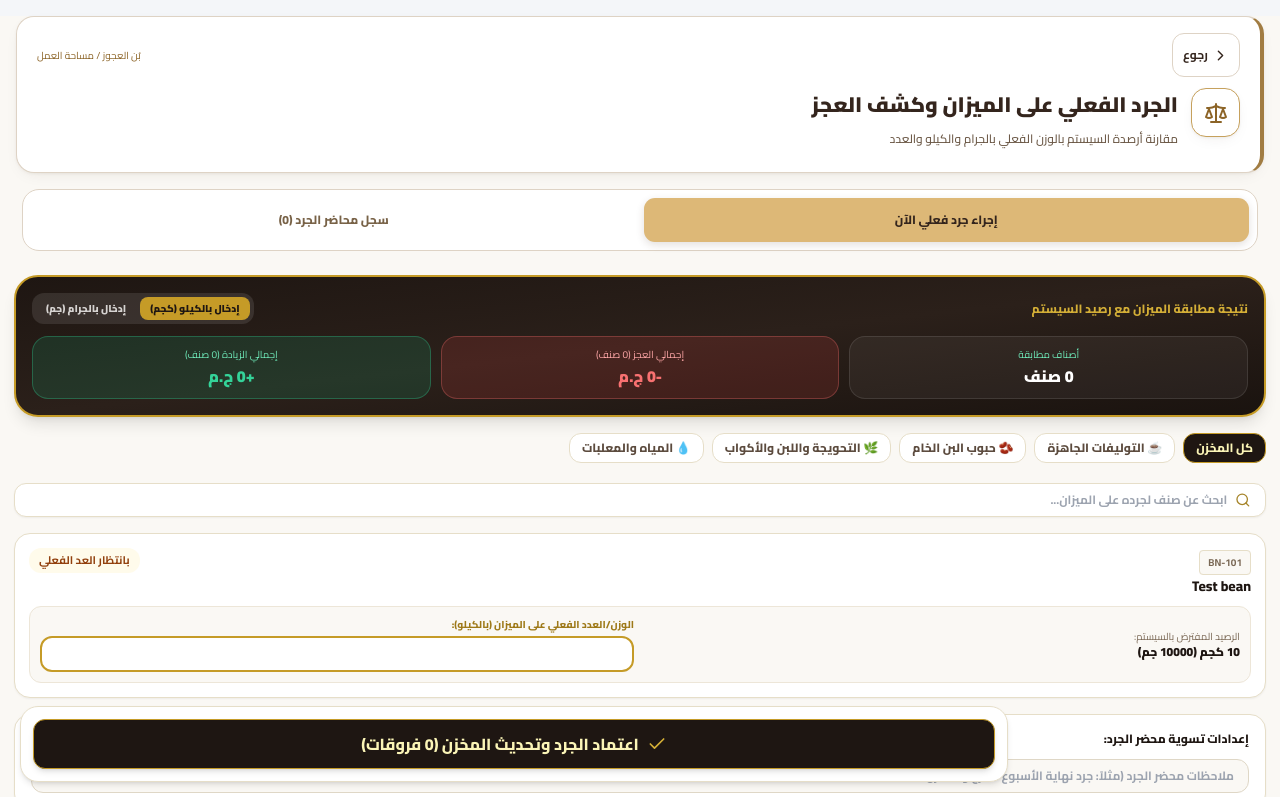
Scenario: preserves grams as a base quantity across count unit changes and retains a rejected count
The width and height of the screenshot is (1280, 797).
Click the button "إدخال بالجرام (جم)" at (86, 309), box x1=36 y1=297 x2=136 y2=320
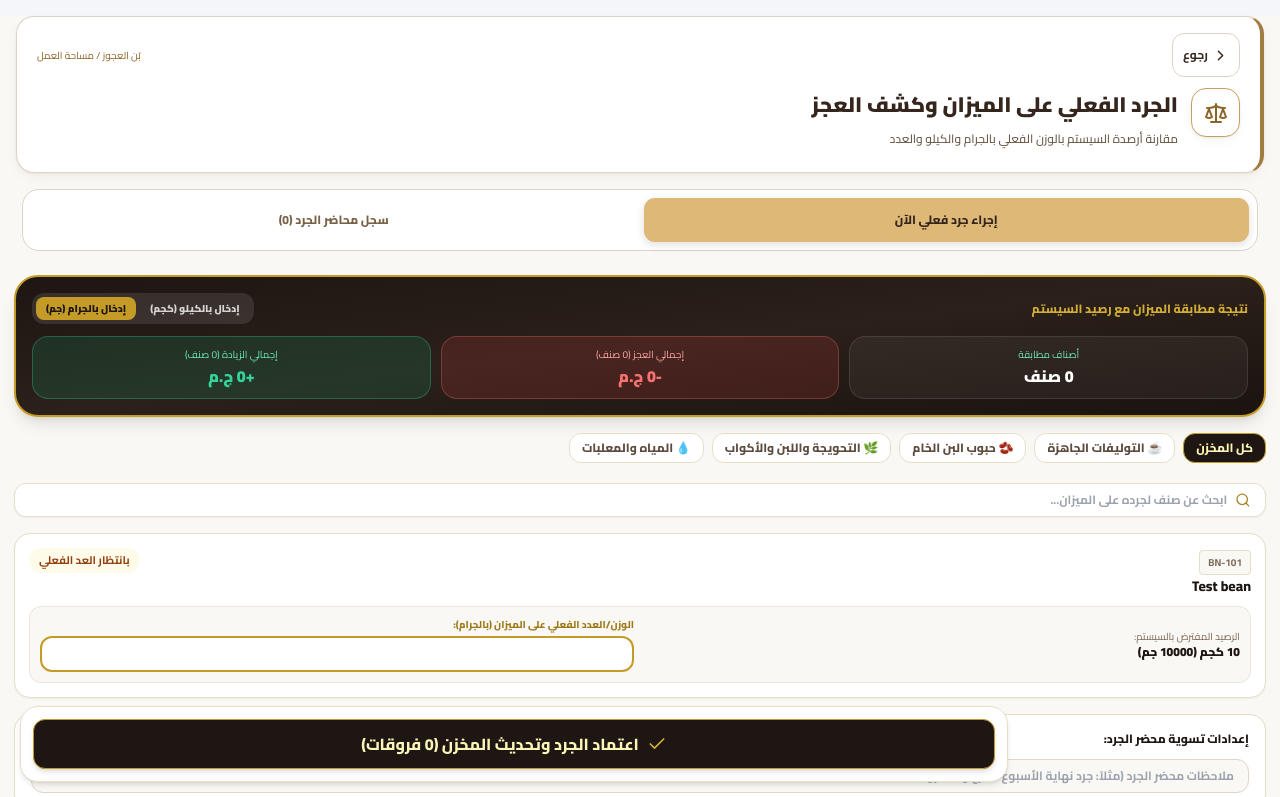
Type "9500" into the field named "الرصيد الفعلي: Test bean" at (337, 654), box x1=40 y1=636 x2=634 y2=672
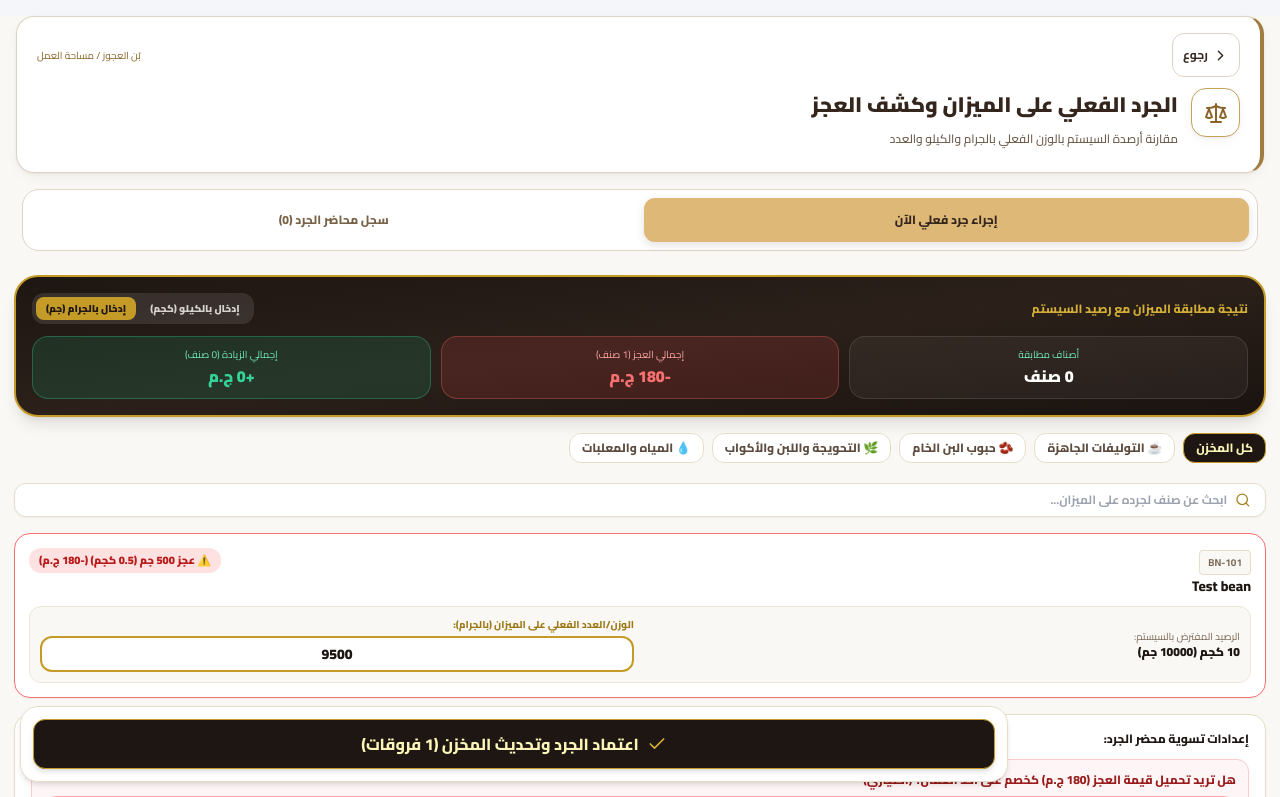
Click the button "إدخال بالكيلو (كجم)" at (195, 309), box x1=140 y1=297 x2=250 y2=320
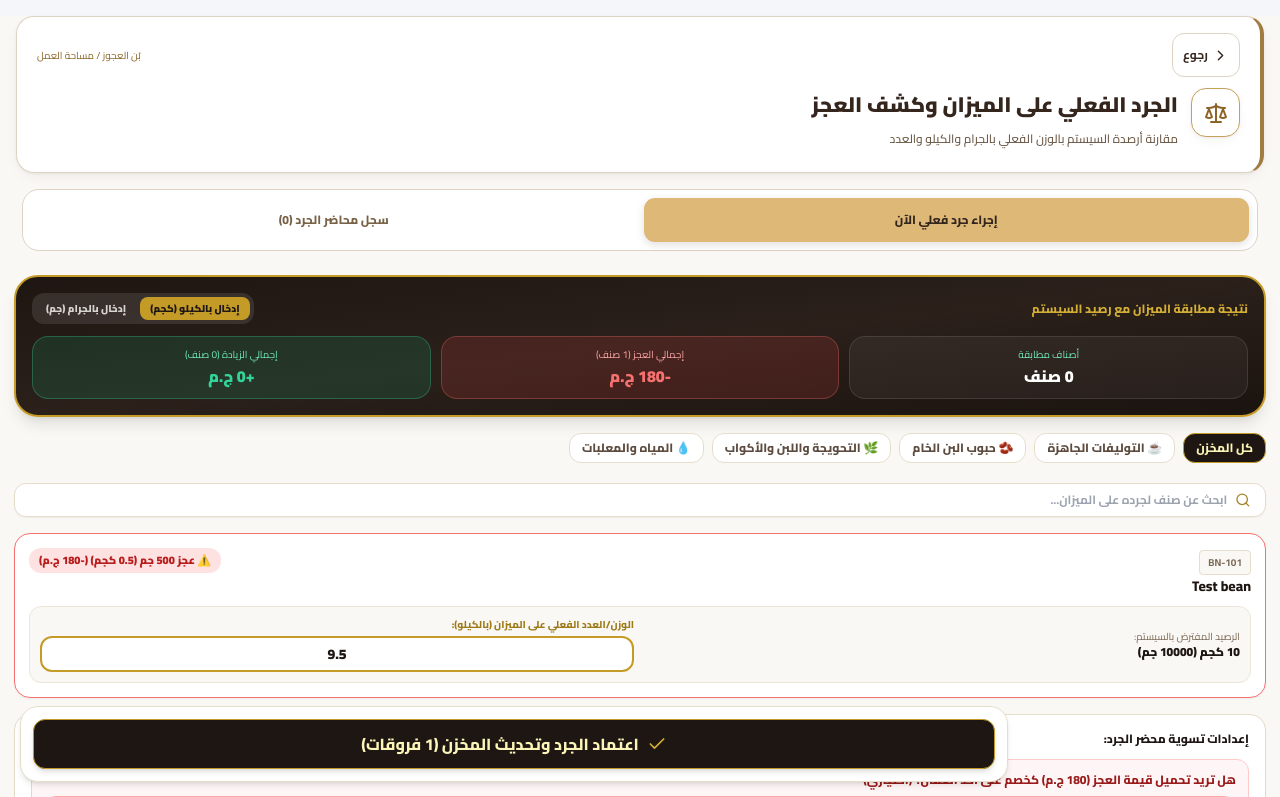
Expected: the field named "الرصيد الفعلي: Test bean" holds "9.5", x1=40 y1=636 x2=634 y2=672
Click the button "اعتماد الجرد وتحديث المخزن (1 فروقات)" at (514, 744), box x1=33 y1=719 x2=995 y2=769
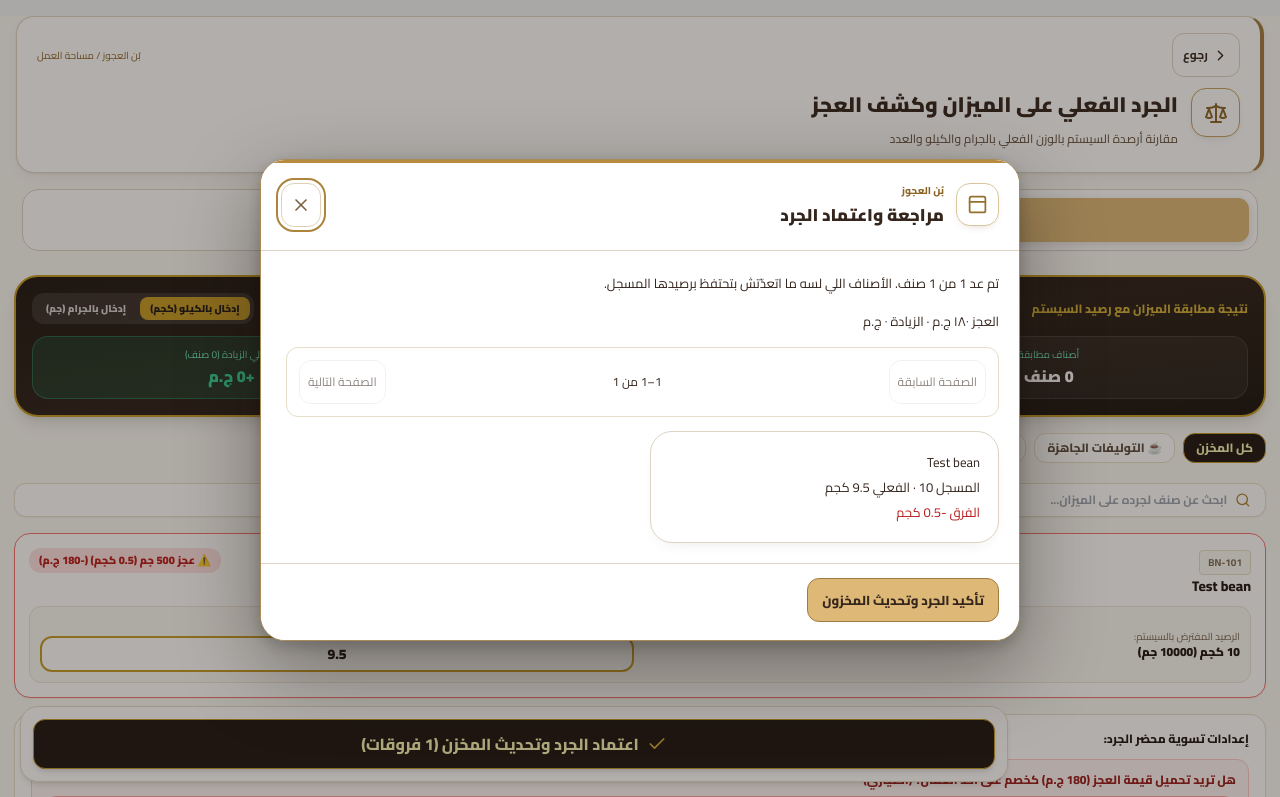
Expected: the text "المسجل 10 · الفعلي 9.5 كجم" is shown, x1=825 y1=475 x2=980 y2=499
Click the button "تأكيد الجرد وتحديث المخزون" at (903, 600), box x1=807 y1=578 x2=999 y2=622
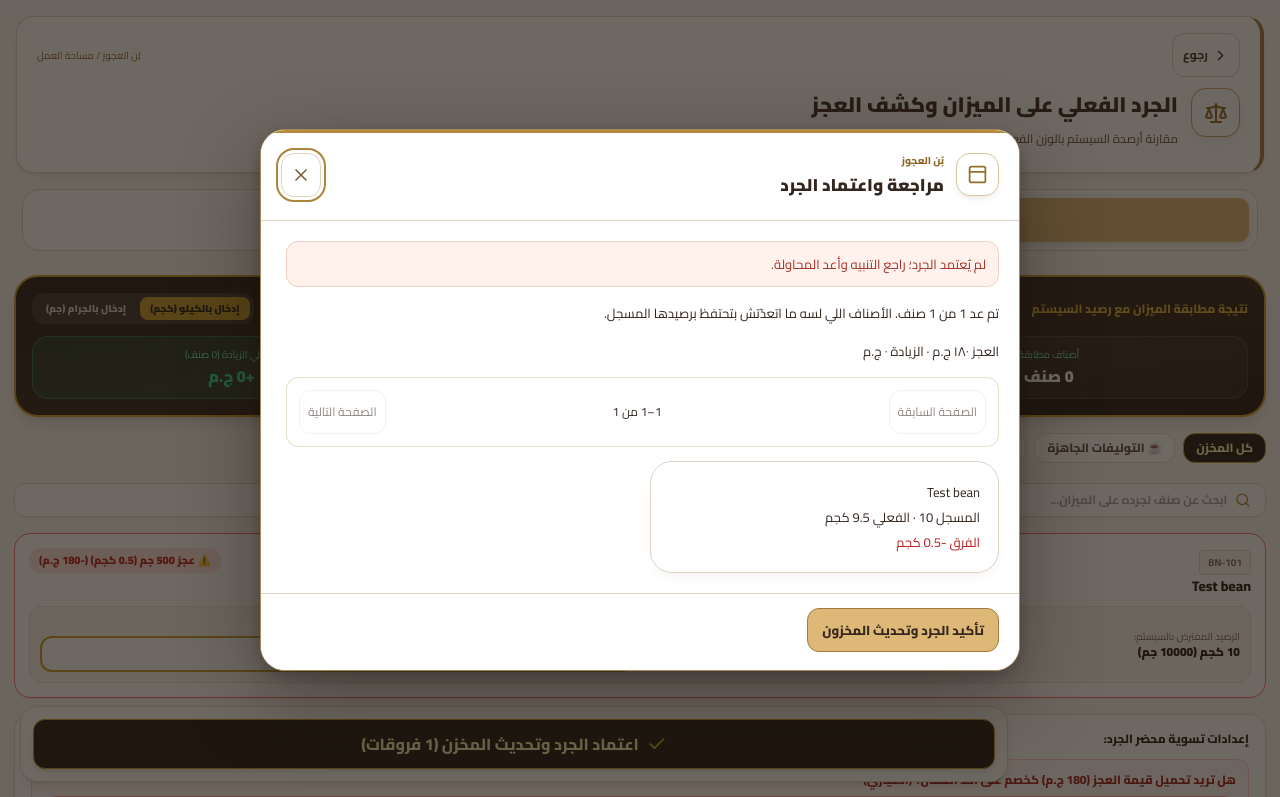
Expected: the field named "الرصيد الفعلي: Test bean" holds "9.5", x1=40 y1=636 x2=634 y2=672
Expected: the message "لم يُعتمد الجرد؛ راجع التنبيه وأعد المحاولة." is shown, x1=286 y1=241 x2=999 y2=287
